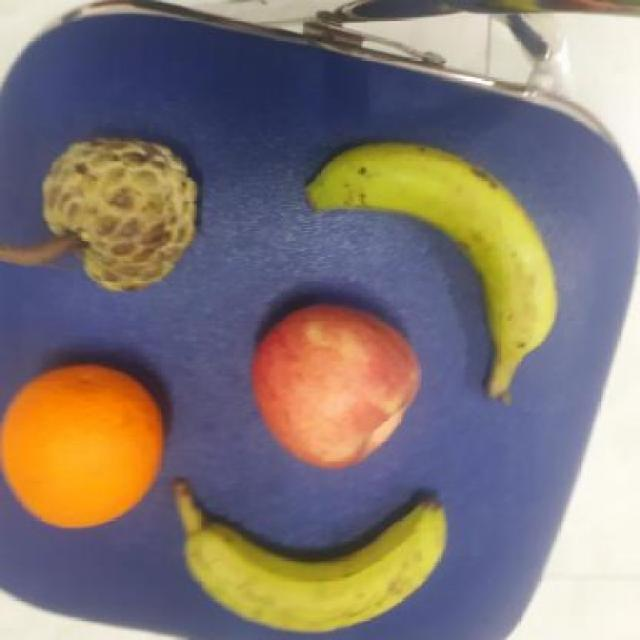apple: (252, 295, 420, 471)
banana: (301, 141, 557, 402), (174, 476, 458, 639)
oren: (0, 357, 185, 531)
sugar apple: (38, 131, 199, 295)
